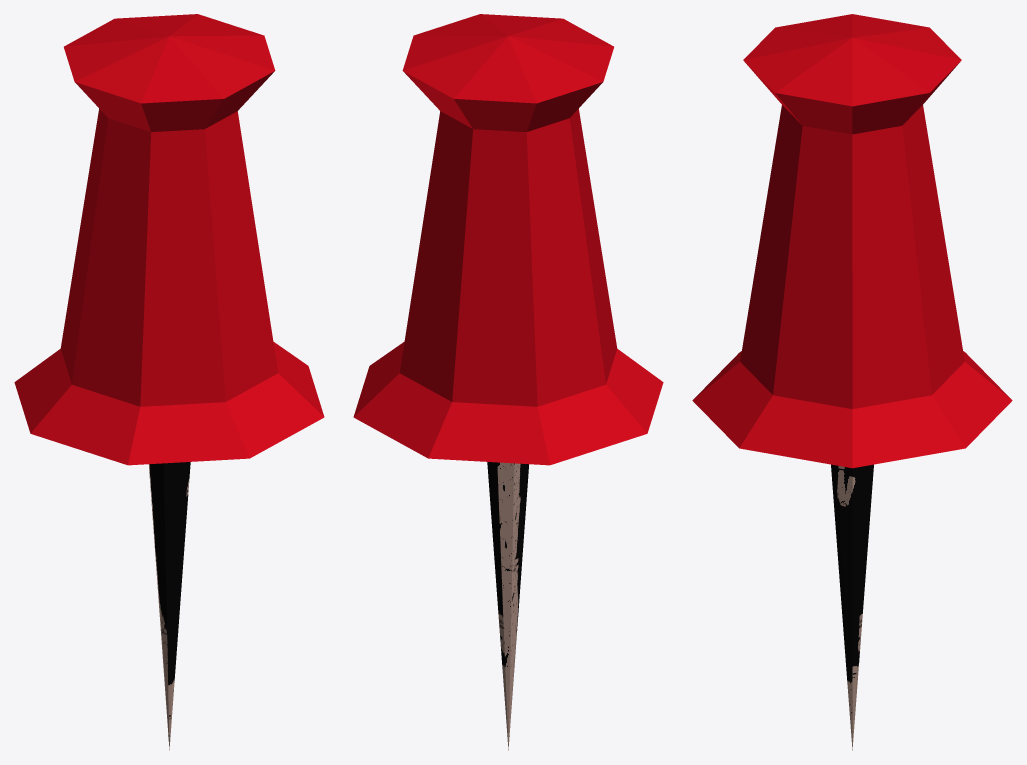
File: pin.fbx
The picture shows the model from 3 angles, left to right: view 1: azimuth 30°, elevation 25°; view 2: azimuth 150°, elevation 25°; view 3: azimuth 270°, elevation 25°; orthographic projection.
Parts seen in each view (by area): view 1: Sphere; view 2: Sphere; view 3: Sphere.
Boxes of the visible parts, x1,y1,x2,y2 form: Sphere: (14, 14, 324, 750); Sphere: (353, 14, 663, 750); Sphere: (692, 14, 1012, 750).
Size of the model in its own units: 1.77 by 4.35 by 1.77.
